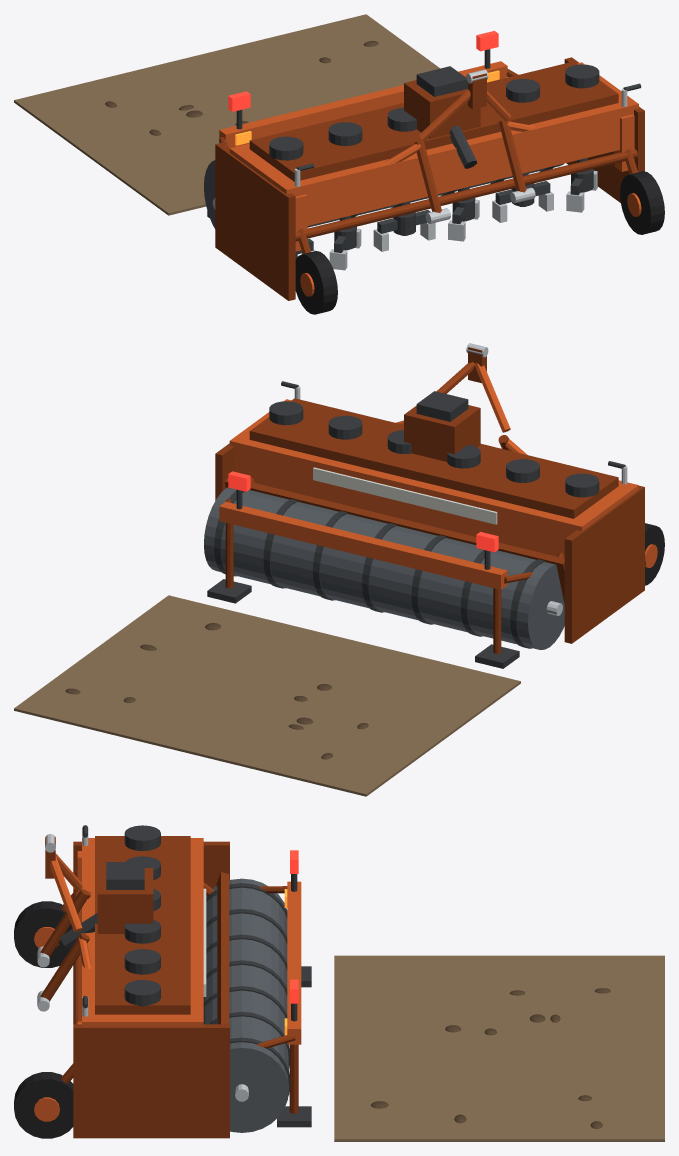
Rendered from power_harrow.glb.
3 views of the same model, one above another, from view 1: azimuth 30°, elevation 25°; view 2: azimuth 150°, elevation 25°; view 3: azimuth 270°, elevation 25° (orthographic). The views are drawn at different scales.
Visible parts, largest first — view 1: PowerBody, PowerProps, TineRotorC, TineRotorE, TineRotorF, TineRotorB, TineRotorD; view 2: PowerBody, PowerProps; view 3: PowerBody, PowerProps.
Part boxes in pixels (x1,y1,x2,y2): PowerBody: [204, 31, 664, 314]; PowerProps: [14, 14, 439, 215]; TineRotorC: [373, 201, 435, 251]; TineRotorE: [492, 172, 553, 222]; TineRotorF: [566, 158, 597, 212]; TineRotorB: [329, 215, 361, 270]; TineRotorD: [448, 186, 479, 241]; PowerBody: [204, 343, 664, 668]; PowerProps: [14, 595, 520, 796]; PowerBody: [14, 825, 311, 1138]; PowerProps: [334, 955, 664, 1141].
Bounding box in the file's own units: 2.53 × 1.34 × 3.74.
